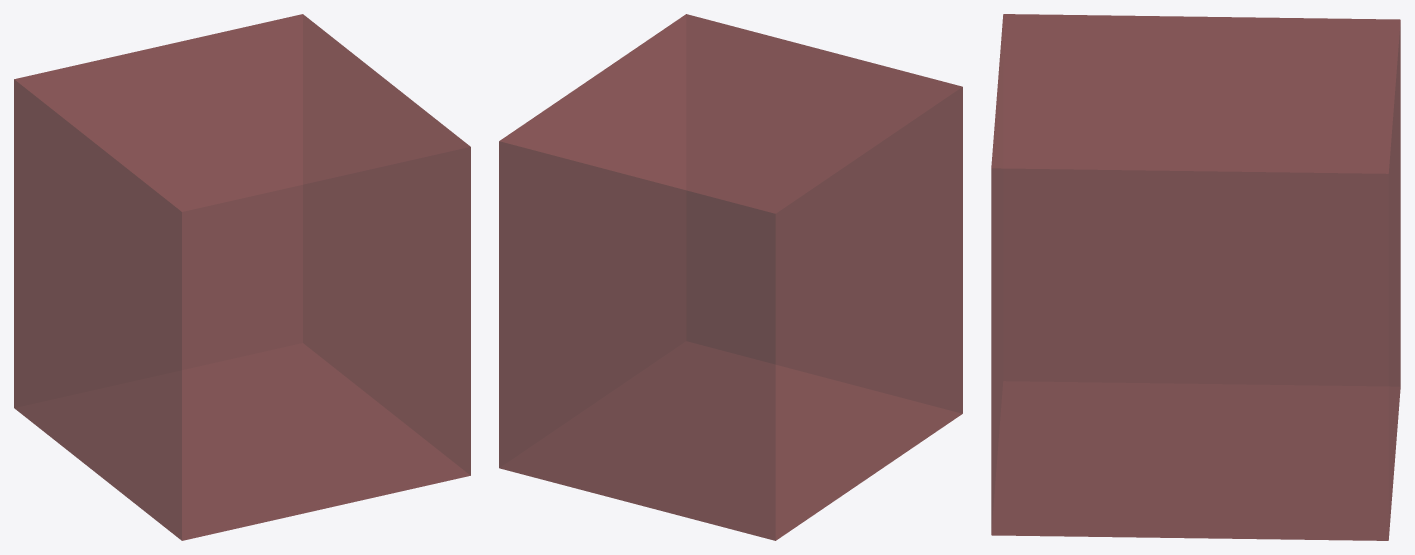
Rendered from House10_Collider.fbx.
3 renders of one model, left to right at view 1: azimuth 30°, elevation 25°; view 2: azimuth 150°, elevation 25°; view 3: azimuth 270°, elevation 25°, orthographic. The views are drawn at different scales.
Visible parts, largest first — view 1: BoundingBox17; view 2: BoundingBox17; view 3: BoundingBox17.
Part boxes in pixels (x1,y1,x2,y2): BoundingBox17: (14, 14, 470, 540); BoundingBox17: (499, 14, 962, 540); BoundingBox17: (991, 14, 1400, 540).
Size of the model in its own units: 16.78 by 17.97 by 18.17.
